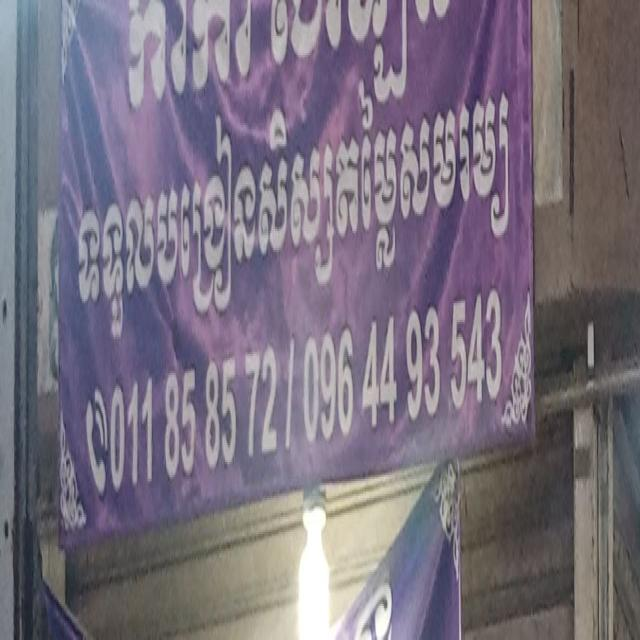Yolov11_80vkh: (66, 21, 532, 369)
